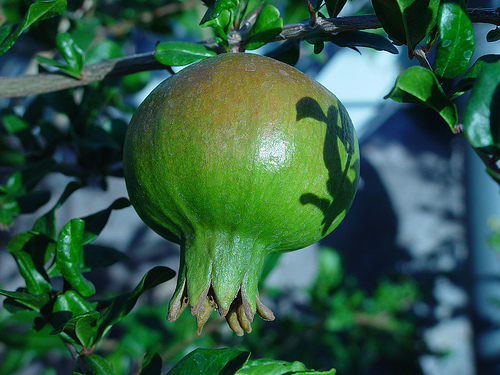pomogranate: (122, 50, 361, 334)
